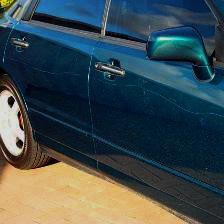door_scratch: (92, 77, 214, 119), (9, 56, 86, 83)
